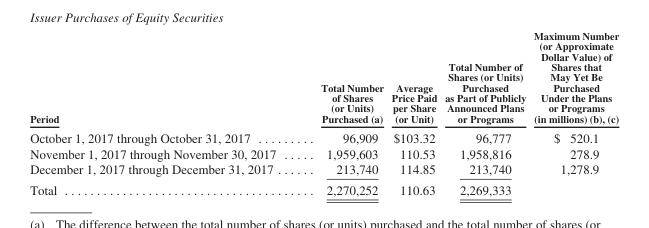table: (29, 29, 618, 196)
table column: (29, 29, 297, 196), (297, 29, 386, 196), (440, 29, 529, 196), (529, 29, 618, 196), (386, 29, 440, 196)
table column header: (29, 29, 618, 127)
table row: (29, 29, 618, 127), (29, 127, 618, 145), (29, 161, 618, 179), (29, 179, 618, 196), (29, 145, 618, 161)
